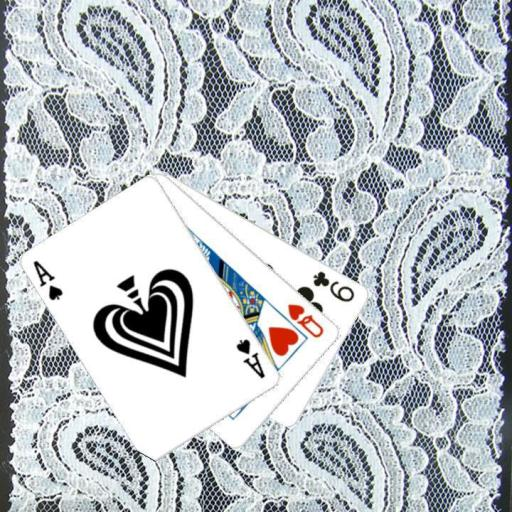card-corner: (309, 267, 357, 304), (284, 300, 326, 339), (30, 257, 65, 302), (234, 336, 268, 380)
